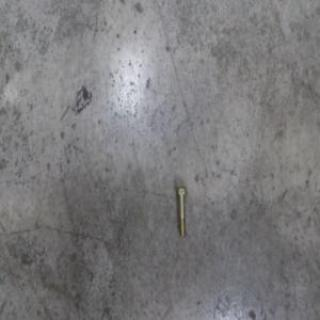Bolttrack_idkeyframe: (174, 184, 187, 237)
